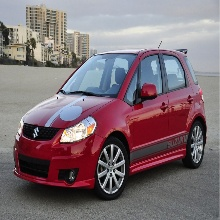no damage: (12, 48, 208, 198)
